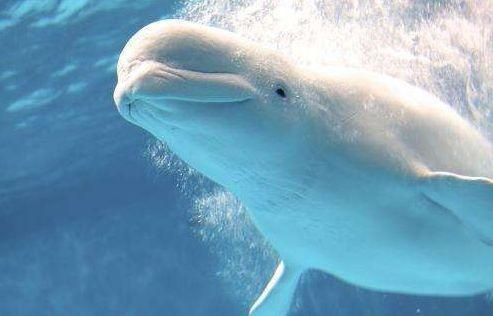fish: (111, 16, 493, 316)
